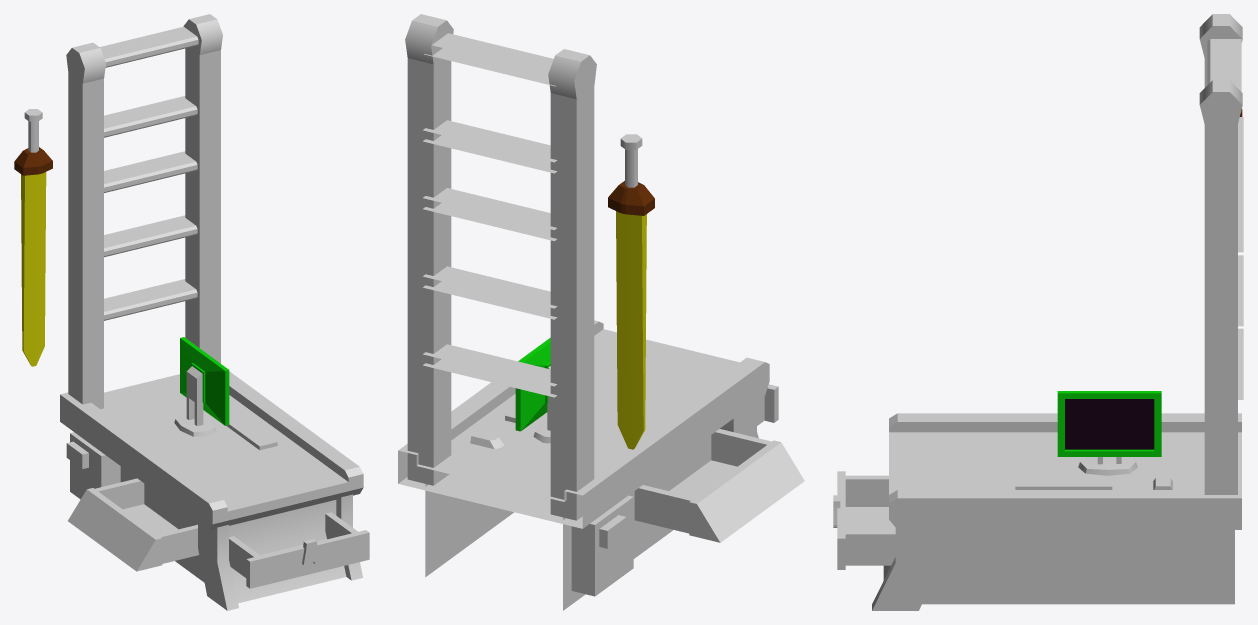
Rendered from Comptoir.fbx.
3 renders of one model, left to right at view 1: azimuth 30°, elevation 25°; view 2: azimuth 150°, elevation 25°; view 3: azimuth 270°, elevation 25°, orthographic. The views are drawn at different scales.
Visible parts, largest first — view 1: plateau, pCube52, pCube152, pCube104, pCube125 (×2), pCube136, pCube131, pCube111, pCube154, pCube153, pCube156, pCube155 (+7 smaller); view 2: plateau, pCube52, pCube152, pCube136, pCube104, pCube125, pCube113, pCube155, pCube156, pCube154, pCube153, pCube111 (+5 smaller); view 3: plateau, pCube104, pCube152, pCube131, pCube138, pCube111, pCube137, clavier, pCube52, pCube127, Socle, pCube125.
Boxes of the visible parts, x1=… form: plateau: x1=60, y1=371, x2=363, y2=530; pCube52: x1=66, y1=42, x2=105, y2=409; pCube152: x1=183, y1=14, x2=222, y2=363; pCube104: x1=120, y1=466, x2=363, y2=610; pCube125 (×2): x1=68, y1=488, x2=369, y2=588; pCube136: x1=14, y1=147, x2=52, y2=366; pCube131: x1=180, y1=337, x2=229, y2=425; pCube111: x1=100, y1=26, x2=198, y2=67; pCube154: x1=104, y1=215, x2=197, y2=257; pCube153: x1=104, y1=279, x2=197, y2=320; pCube156: x1=104, y1=96, x2=197, y2=137; pCube155: x1=104, y1=151, x2=197, y2=192; plateau: x1=398, y1=320, x2=769, y2=528; pCube52: x1=548, y1=49, x2=596, y2=520; pCube152: x1=405, y1=14, x2=453, y2=485; pCube136: x1=608, y1=181, x2=654, y2=449; pCube104: x1=425, y1=401, x2=758, y2=610; pCube125: x1=689, y1=440, x2=804, y2=542; pCube113: x1=571, y1=495, x2=633, y2=596; pCube155: x1=423, y1=188, x2=556, y2=241; pCube156: x1=423, y1=120, x2=557, y2=173; pCube154: x1=423, y1=266, x2=557, y2=319; pCube153: x1=423, y1=344, x2=556, y2=397; pCube111: x1=424, y1=33, x2=555, y2=86; plateau: x1=889, y1=413, x2=1241, y2=529; pCube104: x1=872, y1=528, x2=1234, y2=610; pCube152: x1=1199, y1=80, x2=1242, y2=494; pCube131: x1=1057, y1=391, x2=1161, y2=456; pCube138: x1=842, y1=531, x2=895, y2=565; pCube111: x1=1207, y1=39, x2=1241, y2=91; pCube137: x1=842, y1=475, x2=888, y2=506; clavier: x1=1015, y1=476, x2=1112, y2=489; pCube52: x1=1199, y1=14, x2=1242, y2=87; pCube127: x1=845, y1=507, x2=895, y2=530; Socle: x1=1078, y1=457, x2=1137, y2=475; pCube125: x1=837, y1=471, x2=845, y2=569.
Bounding box in the file's own units: 1.75 × 3.7 × 2.65.
